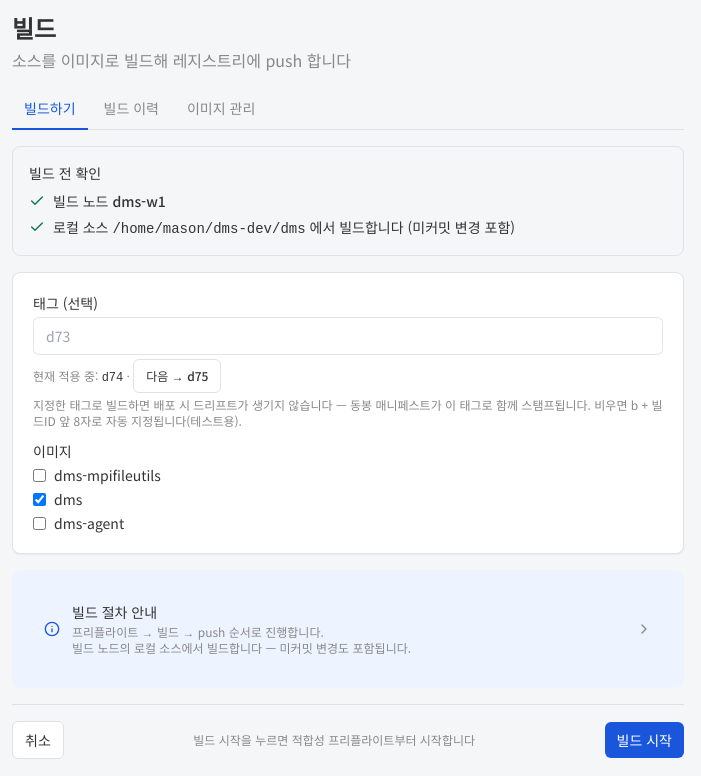
Test: BuildForm — 빌드하기(기본 하위 페이지) › 이미지를 하나도 고르지 않으면 제출 버튼이 비활성이다
The image size is (701, 776).
Click the checkbox labelled "dms".
click(40, 499)  # box [33,492,46,506]
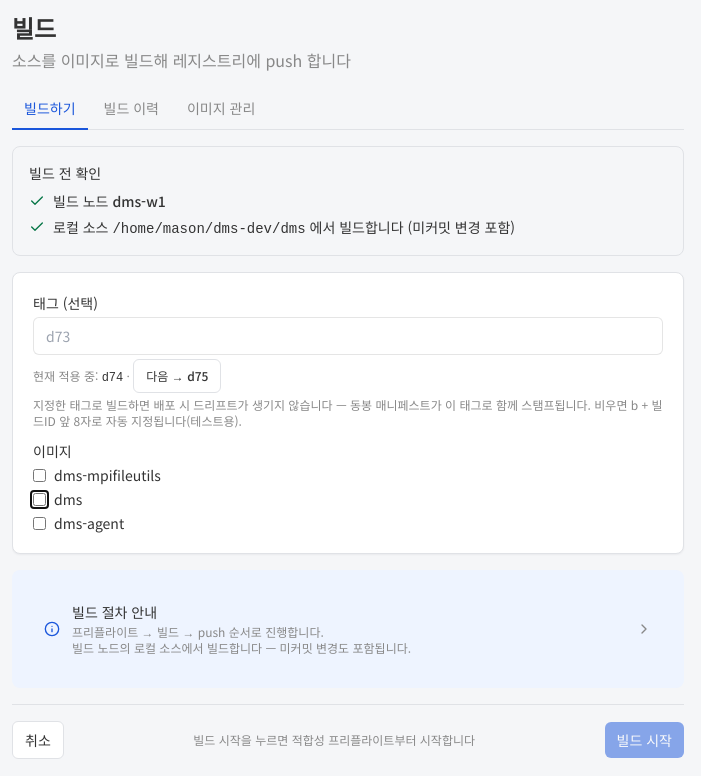
Check: the button "빌드 시작" is disabled, box [604,722,684,758]
